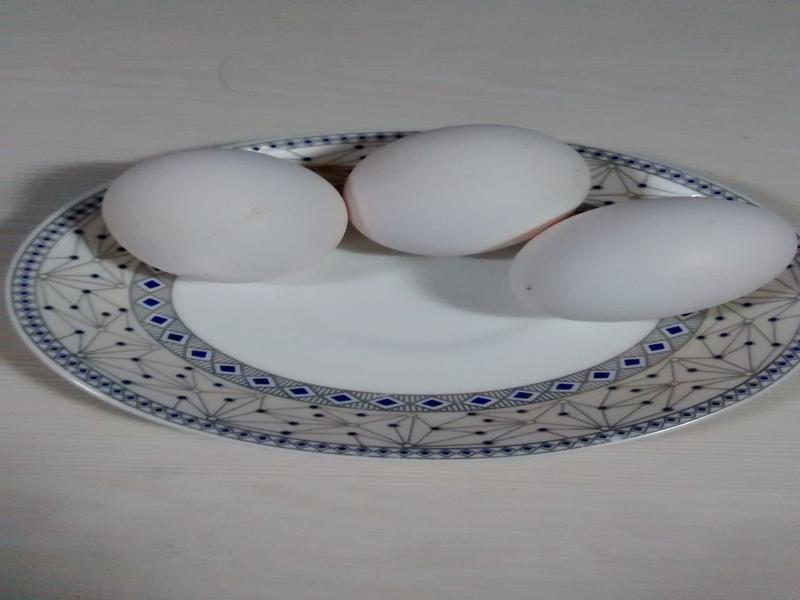egg: (107, 153, 352, 277)
